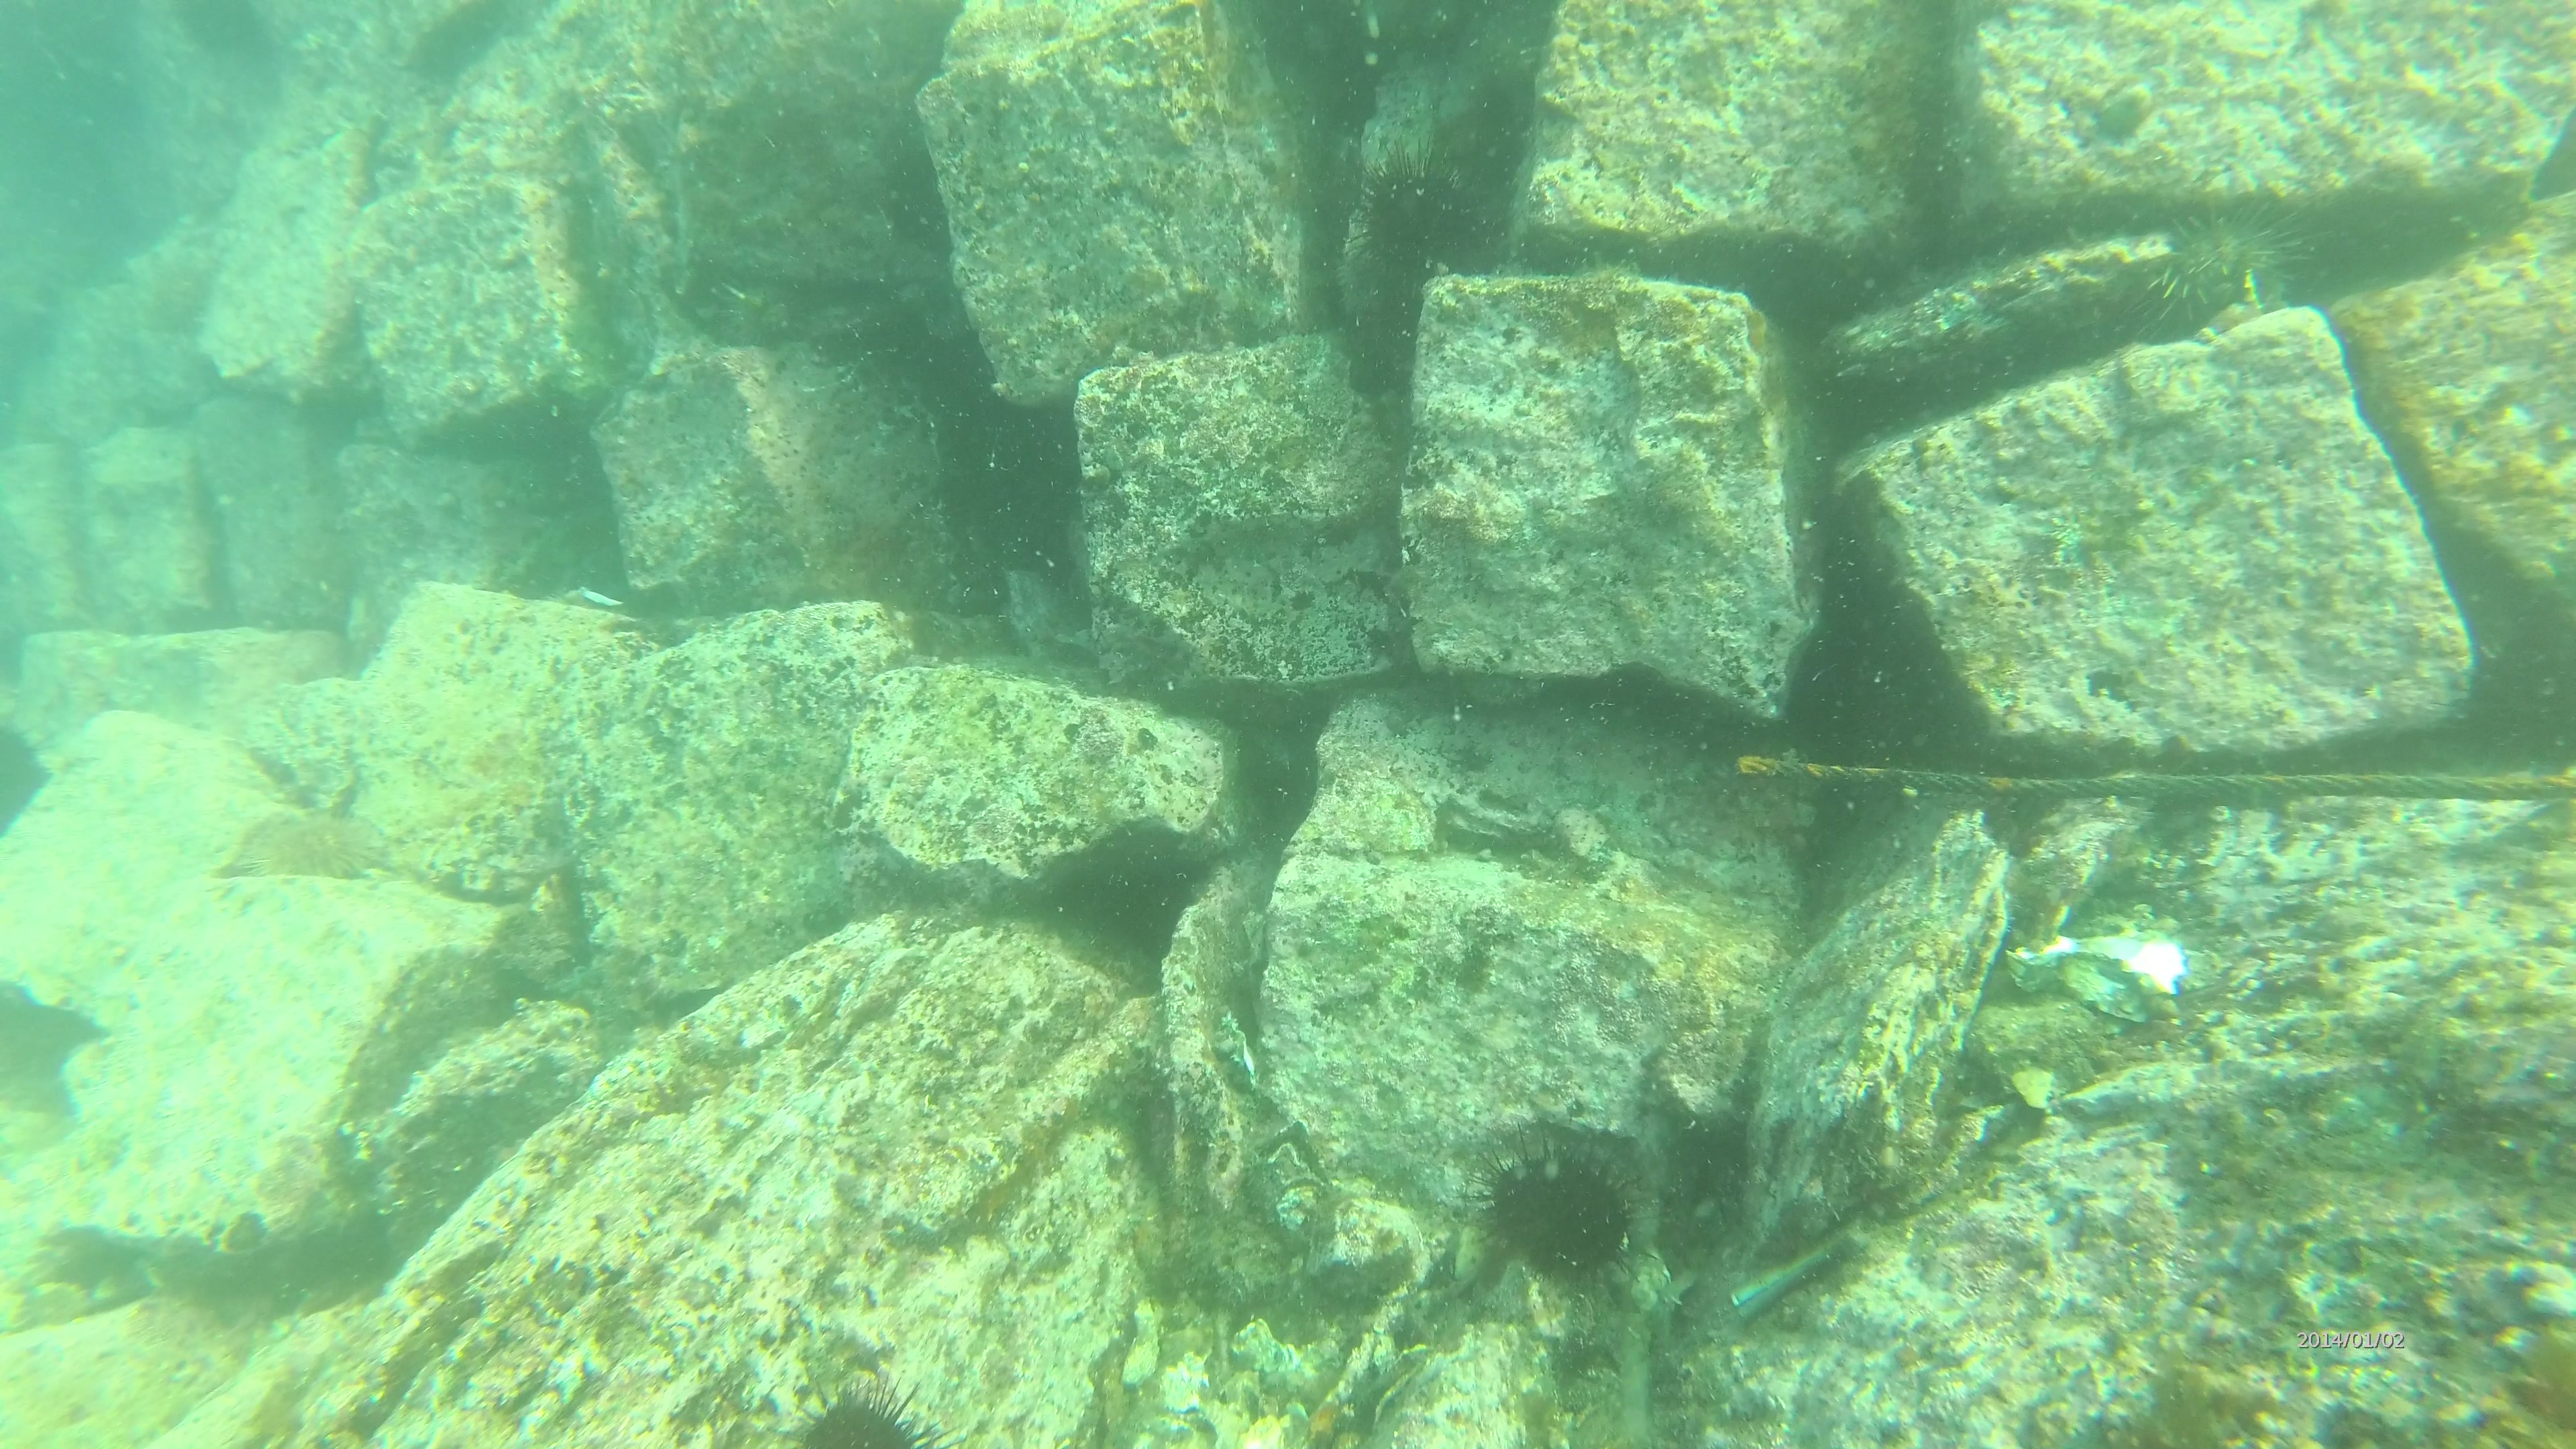echinus: (1352, 131, 1499, 295), (1479, 1134, 1645, 1269), (2153, 205, 2312, 326), (235, 807, 395, 888), (778, 1375, 947, 1449)
